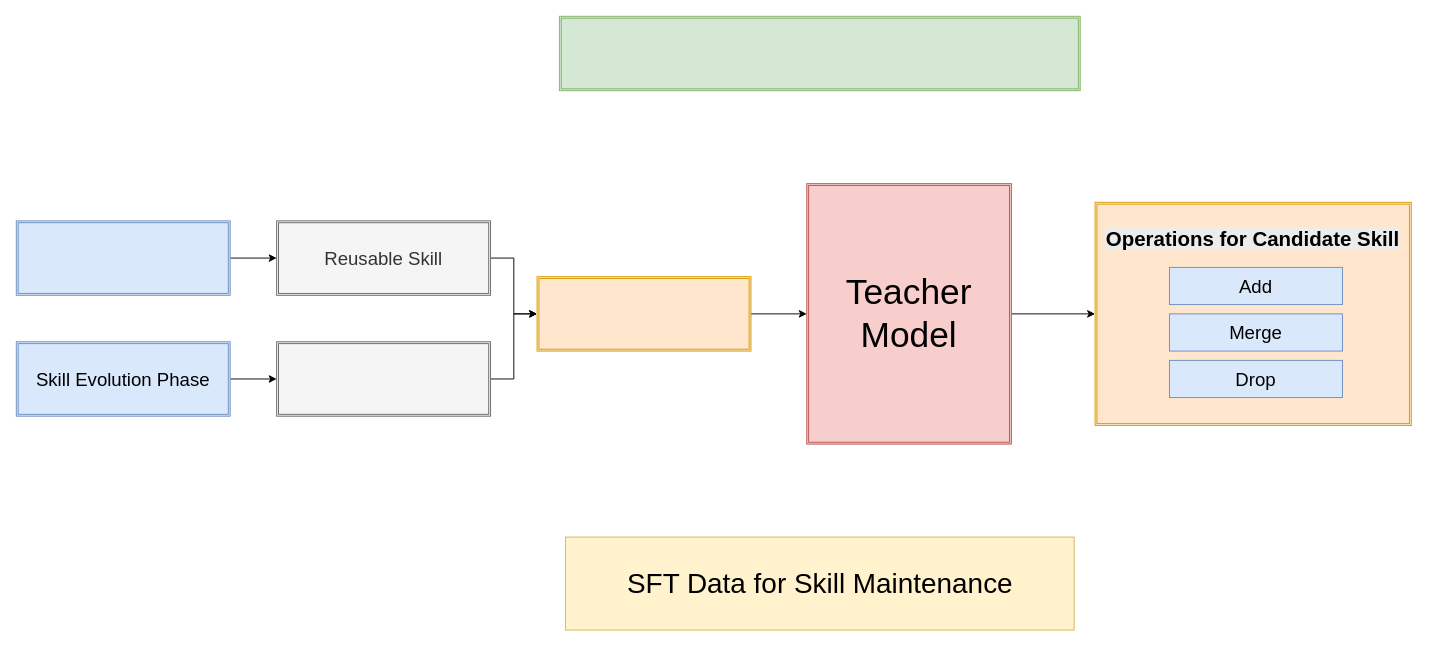
Some shapes in this 1446 by 646 pixel diagram are drawn without their labels. Each missing label, with the centre of its shape:
"Candidate Skill" goes at point (643, 313).
"Revised Skill" goes at point (383, 378).
"Skill Extraction Phase" goes at point (122, 257).
"Skill Maintenance" goes at point (819, 53).
